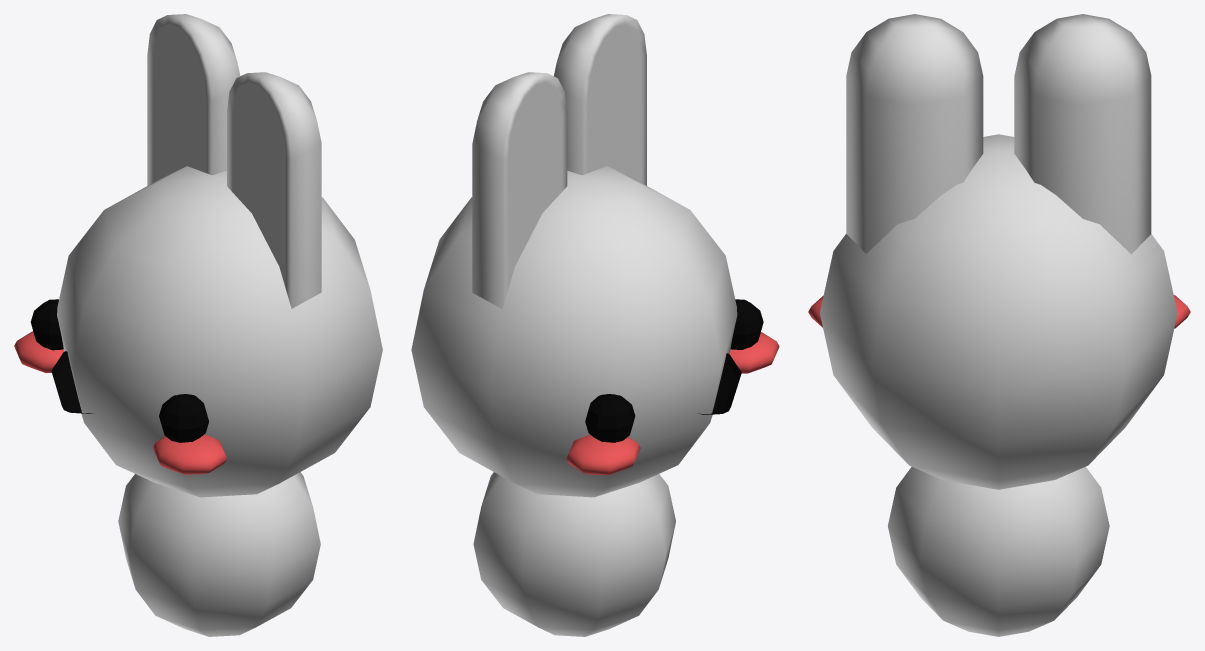
The model's file is HappyBun_White.fbx.
The picture shows the model from 3 angles, left to right: view 1: azimuth 30°, elevation 25°; view 2: azimuth 150°, elevation 25°; view 3: azimuth 270°, elevation 25°; orthographic projection. The views are drawn at different scales.
Parts seen in each view (by area): view 1: HappyBun_White; view 2: HappyBun_White; view 3: HappyBun_White.
Boxes of the visible parts, x1,y1,x2,y2 form: HappyBun_White: (14, 14, 382, 636); HappyBun_White: (411, 14, 779, 636); HappyBun_White: (808, 14, 1190, 636).
Bounding box in the file's own units: 105 × 191 × 108.
